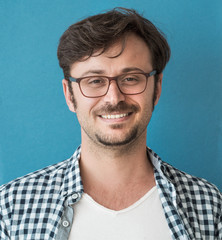young: (56, 8, 170, 145)
